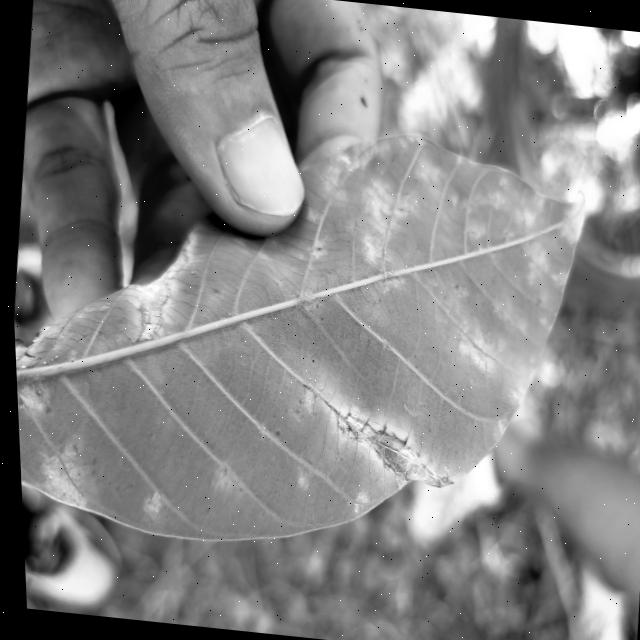Leaf-Blight: (322, 412, 454, 494), (125, 232, 191, 346)
